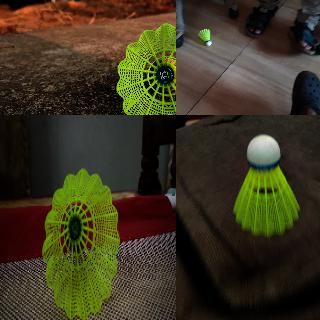shuttlecock: (42, 168, 120, 319), (233, 132, 301, 236), (115, 21, 175, 114), (197, 28, 211, 46)
